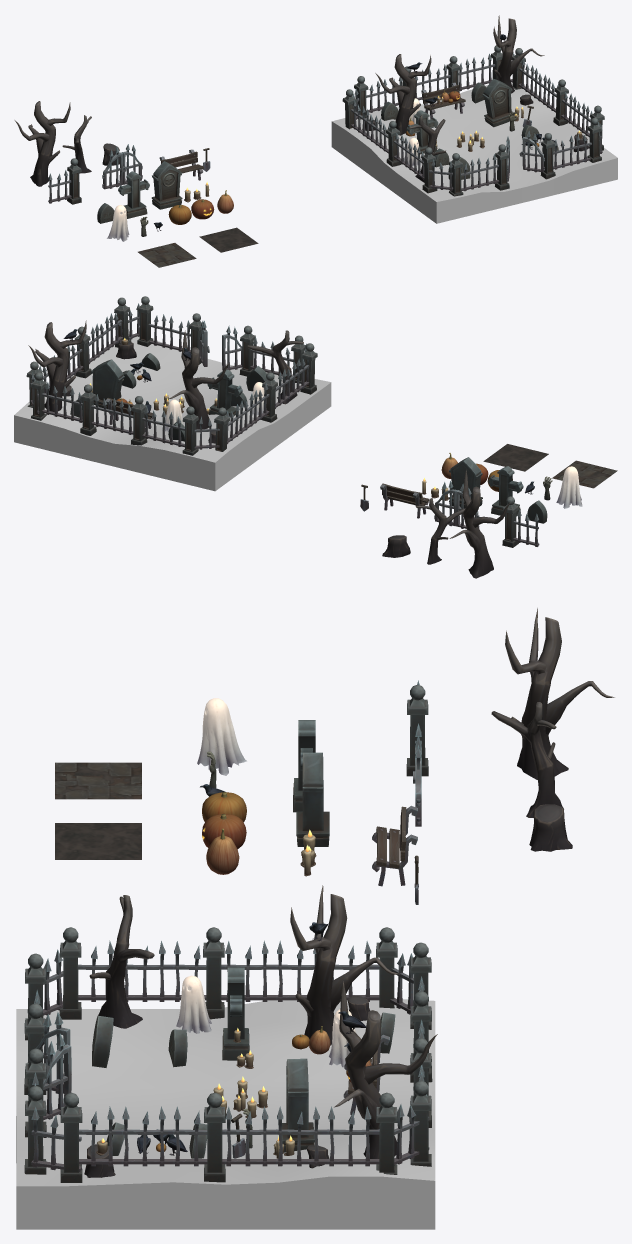
3 renders of one model, top to bottom at view 1: azimuth 30°, elevation 25°; view 2: azimuth 150°, elevation 25°; view 3: azimuth 270°, elevation 25°, orthographic. The views are drawn at different scales.
Parts seen in each view (by area): view 1: sample_ground, tree_large.006, tree_large.007, tonbstone_large.005, tree_large.008, tonbstone_large.006, tombstone_cross.005, Plane.013, Plane.010, bench.006, tombstone_cross.006, bench.005 (+17 smaller); view 2: sample_ground, tree_large.006, tree_large.008, tree_large.007, tonbstone_large.006, Plane.013, tonbstone_large.005, tombstone_cross.005, tombstone_cross.006, Plane.010, bench.005, tree_small.008 (+22 smaller); view 3: sample_ground, tree_large.007, tree_large.006, tree_large.008, Plane.010, Plane.013, tree_small.008, tonbstone_large.005, ghost.006, tree_small.006, tonbstone_large.006, tombstone_cross.006 (+31 smaller).
Part boxes in pixels (<box>): sample_ground: <box>331,79,617,223</box>; tree_large.006: <box>14,101,70,186</box>; tree_large.007: <box>375,54,431,135</box>; tonbstone_large.005: <box>151,161,182,209</box>; tree_large.008: <box>493,15,544,93</box>; tonbstone_large.006: <box>482,78,514,127</box>; tombstone_cross.005: <box>118,171,149,218</box>; Plane.013: <box>199,227,258,252</box>; Plane.010: <box>138,243,196,267</box>; bench.006: <box>421,82,465,118</box>; tombstone_cross.006: <box>406,110,438,154</box>; bench.005: <box>159,149,203,180</box>; sample_ground: <box>14,334,331,491</box>; tree_large.006: <box>449,470,510,578</box>; tree_large.008: <box>28,320,86,412</box>; tree_large.007: <box>168,330,229,429</box>; tonbstone_large.006: <box>91,359,124,408</box>; Plane.013: <box>483,444,548,471</box>; tonbstone_large.005: <box>448,457,482,508</box>; tombstone_cross.005: <box>488,466,523,516</box>; tombstone_cross.006: <box>207,369,242,415</box>; Plane.010: <box>552,460,617,488</box>; bench.005: <box>380,483,429,518</box>; tree_small.008: <box>247,330,303,404</box>; sample_ground: <box>16,998,435,1229</box>; tree_large.007: <box>290,885,400,1045</box>; tree_large.006: <box>505,608,614,779</box>; tree_large.008: <box>334,981,437,1158</box>; Plane.010: <box>55,762,141,799</box>; Plane.013: <box>55,823,141,859</box>; tree_small.008: <box>89,895,154,1028</box>; tonbstone_large.005: <box>296,752,329,846</box>; ghost.006: <box>197,698,246,775</box>; tree_small.006: <box>491,702,563,817</box>; tonbstone_large.006: <box>281,1058,314,1152</box>; tombstone_cross.006: <box>222,967,249,1060</box>.
Size of the model in its own units: 50.81 by 10.5 by 27.48.
